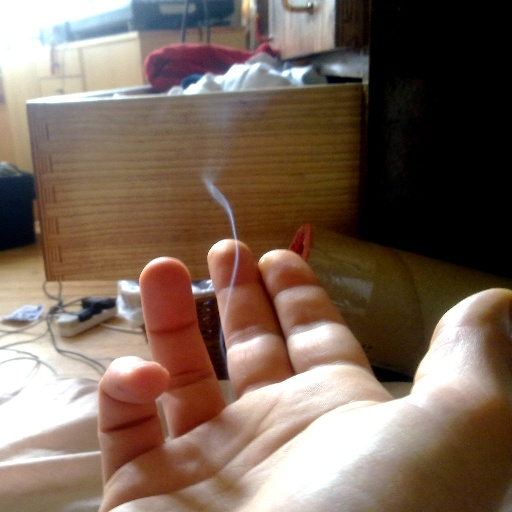hand: (95, 235, 511, 511)
